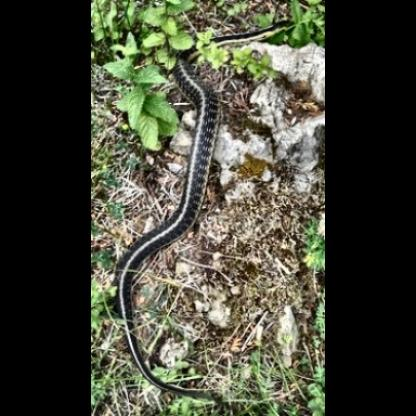Snake: (165, 50, 225, 261), (206, 16, 298, 56)
